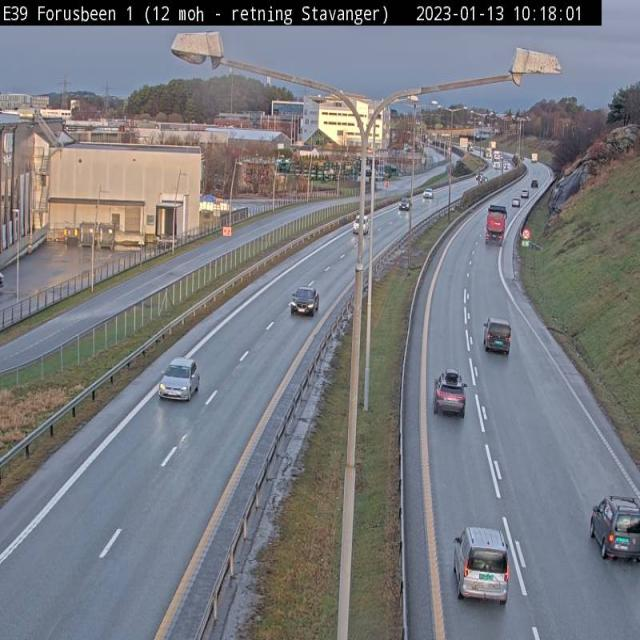car: (453, 525, 511, 605), (589, 496, 640, 562), (158, 358, 200, 402), (434, 375, 466, 416), (484, 318, 512, 354), (484, 318, 511, 354), (289, 286, 319, 316)
